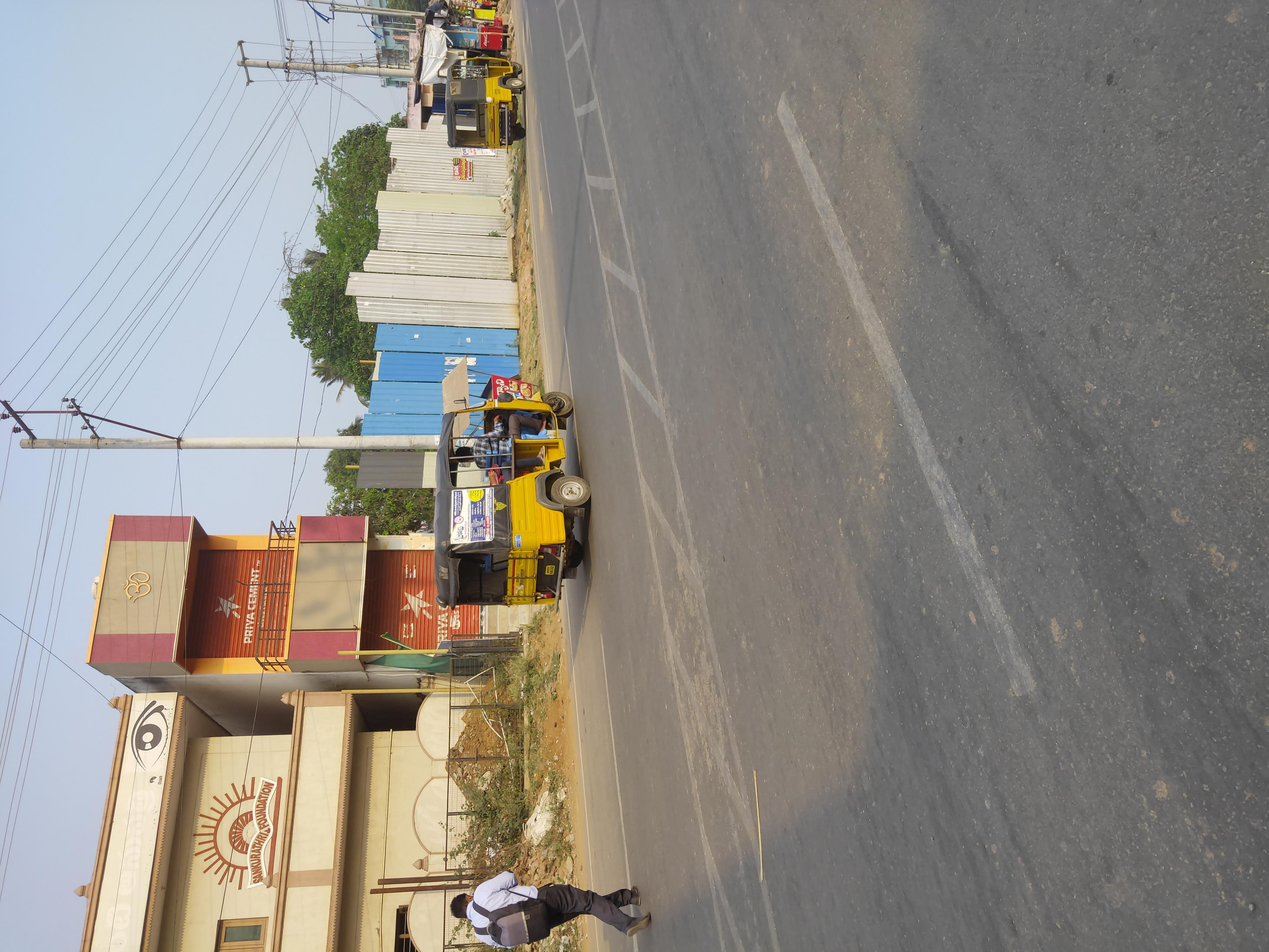Auto: (427, 320, 791, 446), (1055, 326, 1239, 411)
